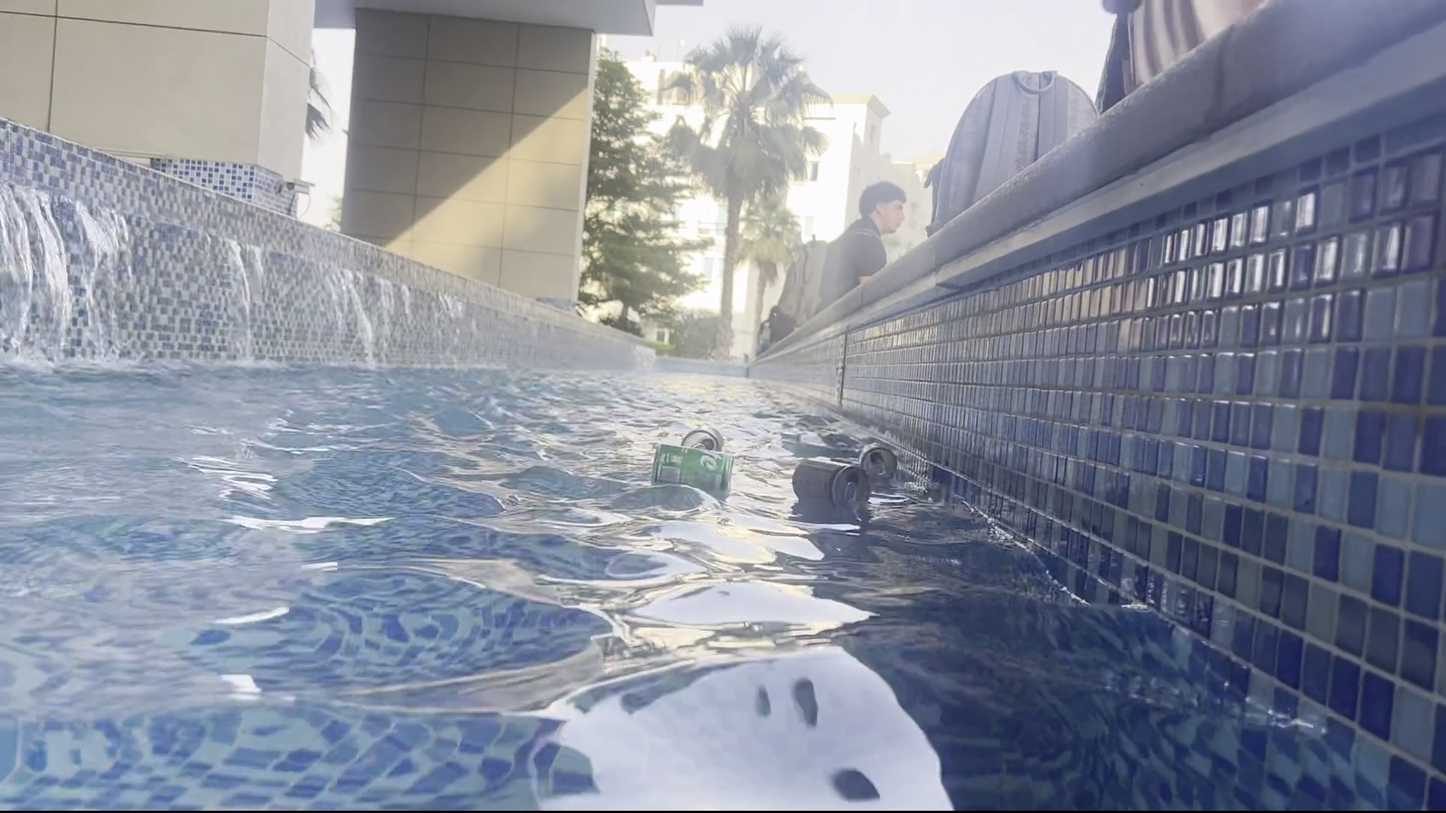debris: (651, 437, 740, 498), (788, 455, 874, 511), (673, 420, 726, 473), (853, 437, 898, 486)
